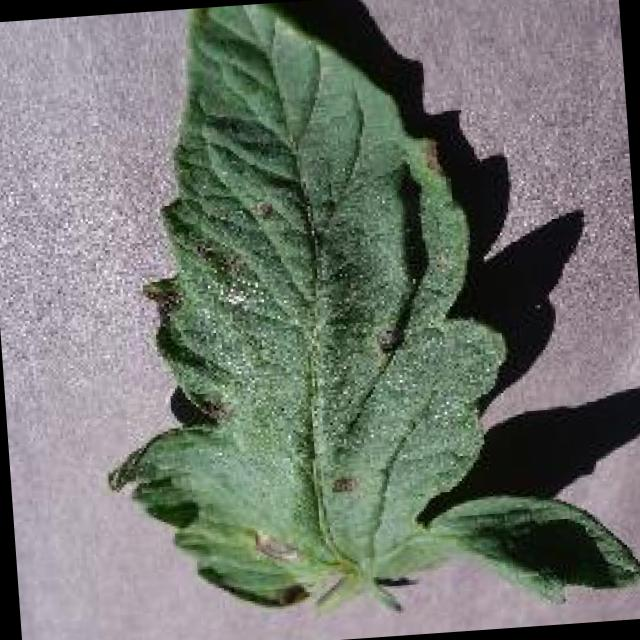Tomato_Early_Blight: (80, 18, 514, 618)
